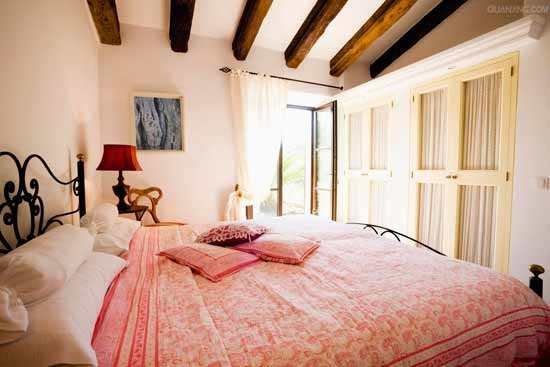床: (4, 220, 543, 364)
枕头: (3, 208, 134, 360), (163, 220, 325, 282)
灯: (95, 143, 142, 214)
